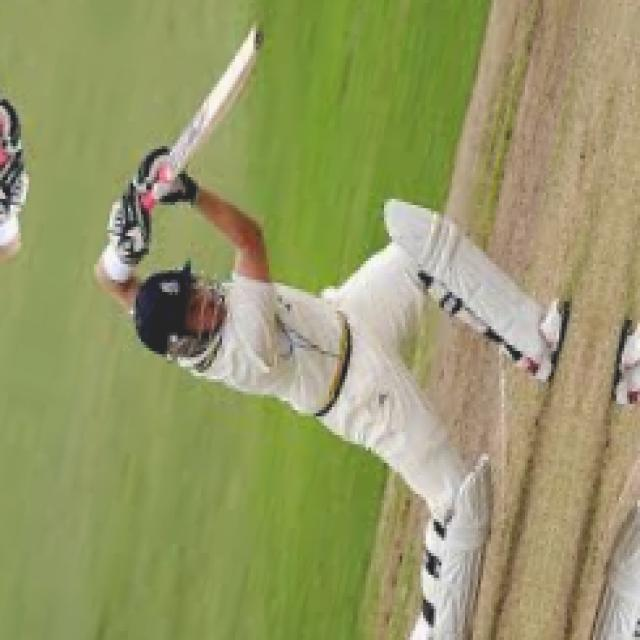bat: (139, 21, 264, 208)
toe: (251, 25, 266, 59)
